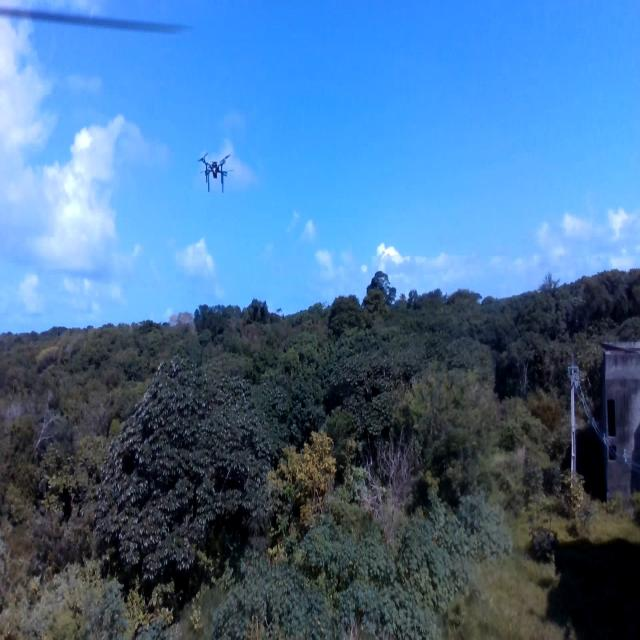-uav-: (196, 142, 236, 209)
